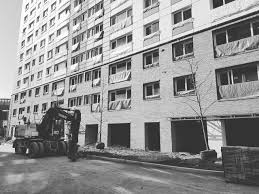excavator: (12, 104, 83, 162)
